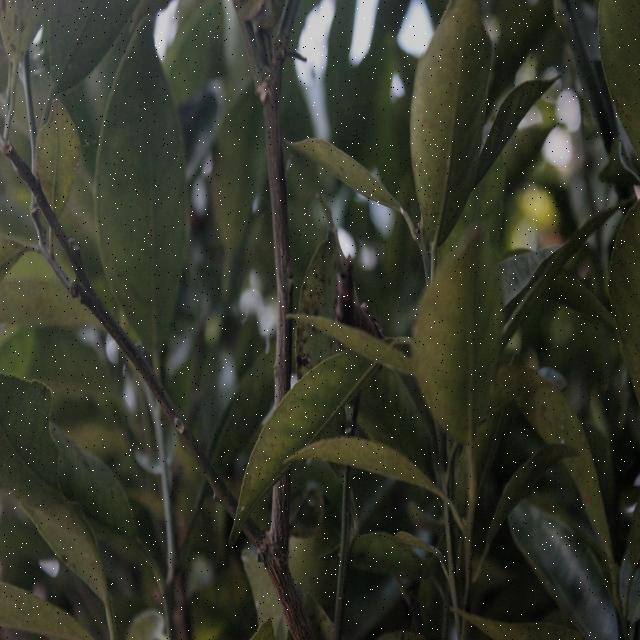melanose: (287, 226, 345, 454)
